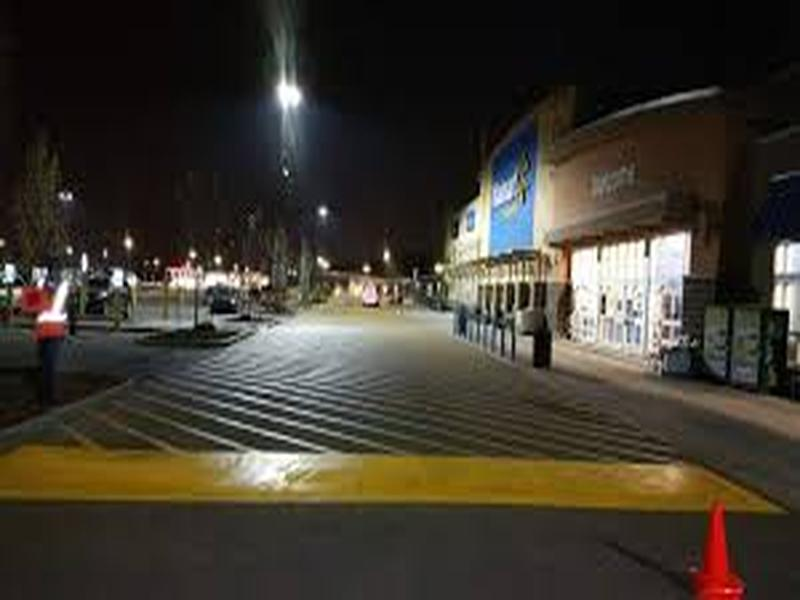Cone: (688, 498, 747, 599)
